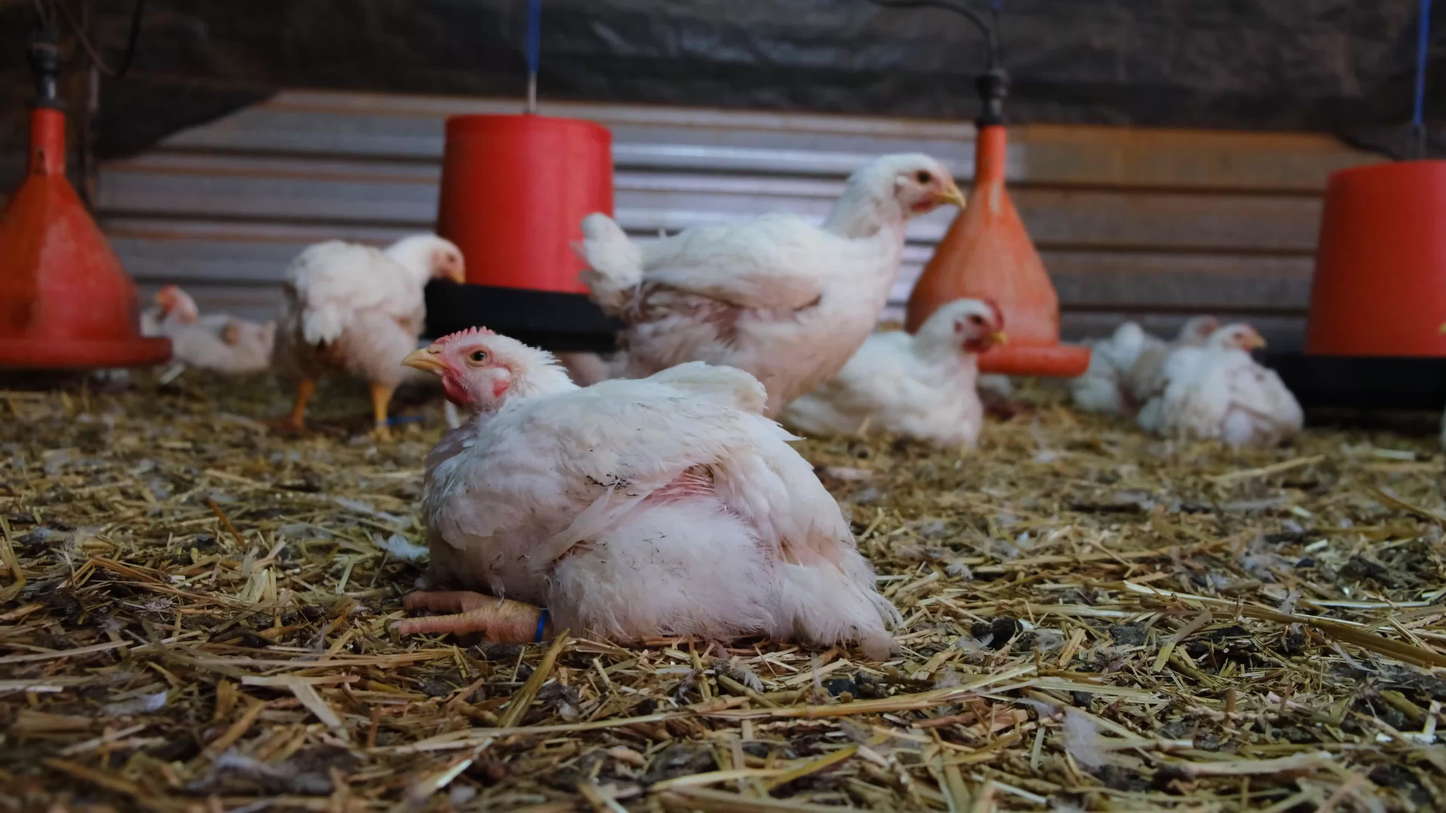AbNormal: (400, 322, 911, 654), (786, 294, 1010, 438), (1159, 324, 1309, 445), (134, 279, 278, 387), (1064, 313, 1179, 429), (1158, 317, 1237, 431)
Normal: (582, 155, 974, 420), (287, 234, 466, 450)
